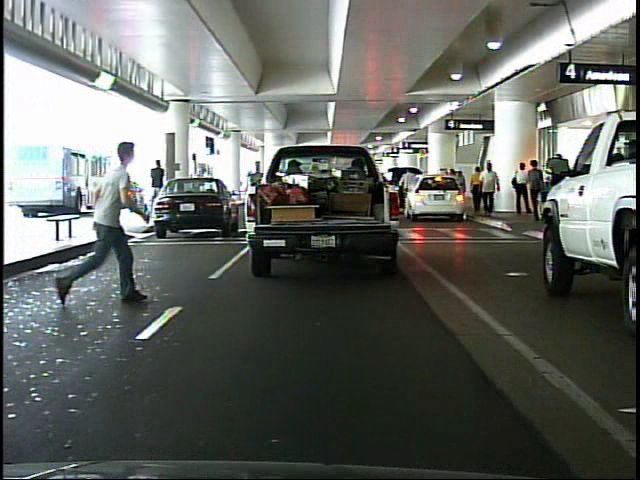person: (65, 129, 164, 320), (471, 156, 497, 222), (513, 156, 535, 218), (147, 157, 169, 219), (468, 160, 485, 220)
